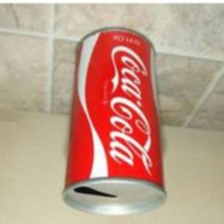can: (57, 23, 170, 221)
